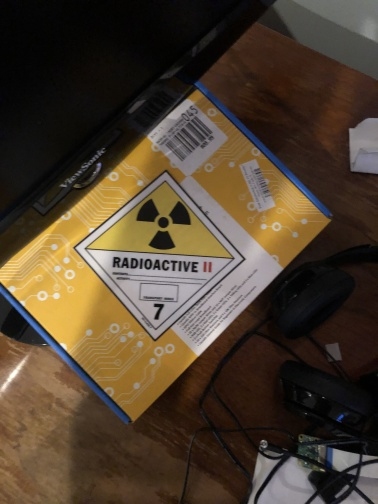Radioactive: (76, 173, 244, 338)
